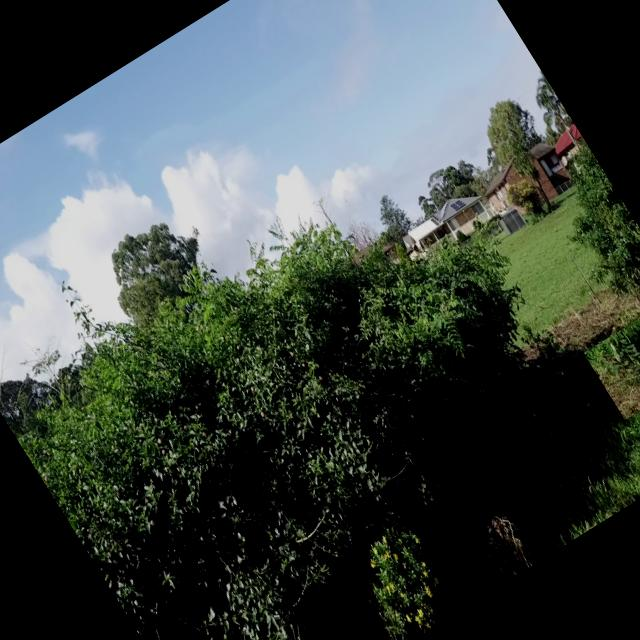Mysore-Thorn-Weed: (583, 305, 640, 419)
